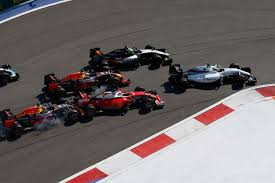FormulaOneCar: (66, 83, 170, 122), (1, 97, 79, 145), (166, 58, 261, 96), (85, 39, 174, 73), (39, 66, 132, 97)
